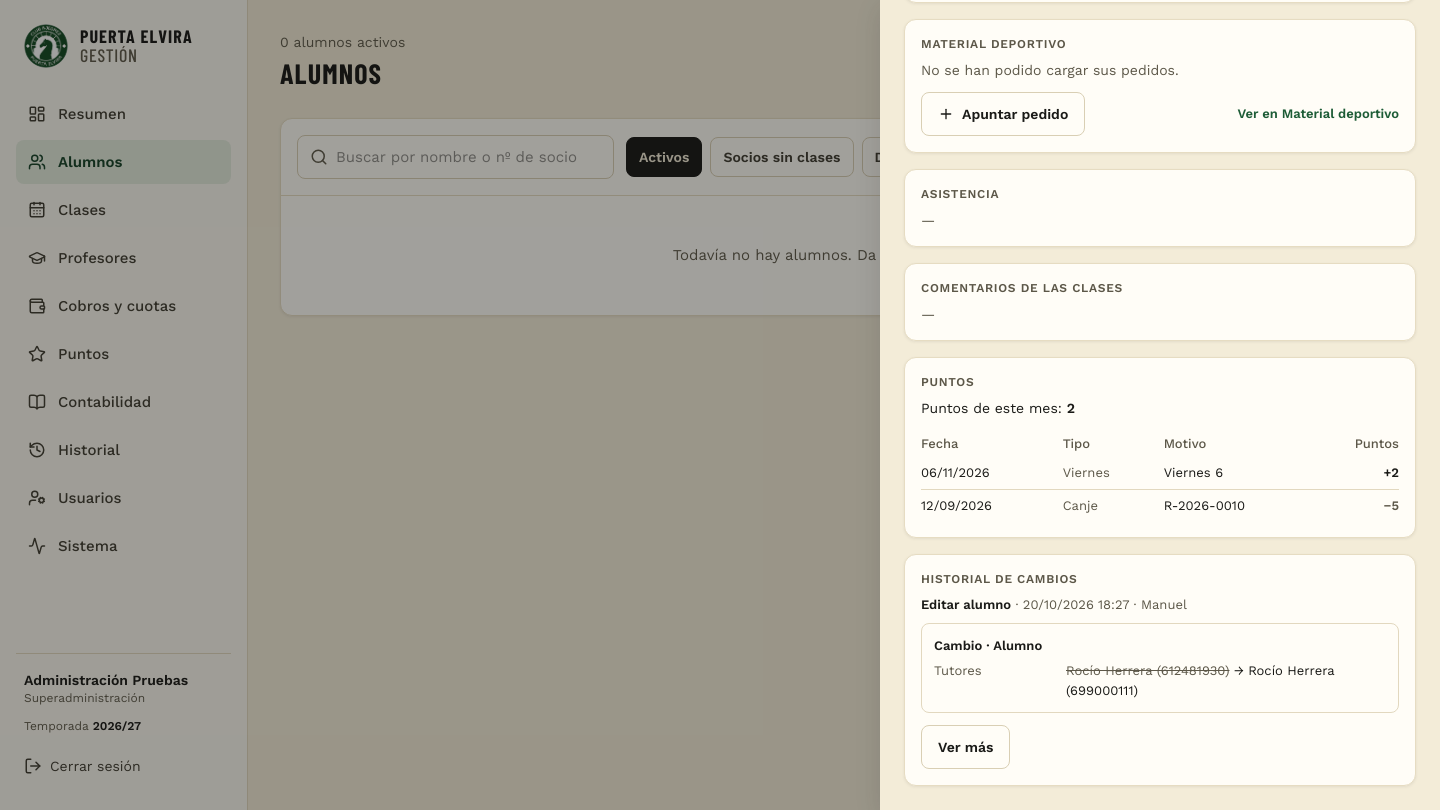
Ficha del alumno: historiales › shows the superadministration what changed in the student, loading older changes on demand
The image size is (1440, 810).
(page scrolled)
Expected: the list named "Historial de cambios" shows "Editar alumno", [921,597,1011,612]
Expected: the list named "Historial de cambios" shows "Manuel", [1141,597,1187,612]
Click the button "Ver más" at [966, 747], box [921,725,1010,769]
(page scrolled)
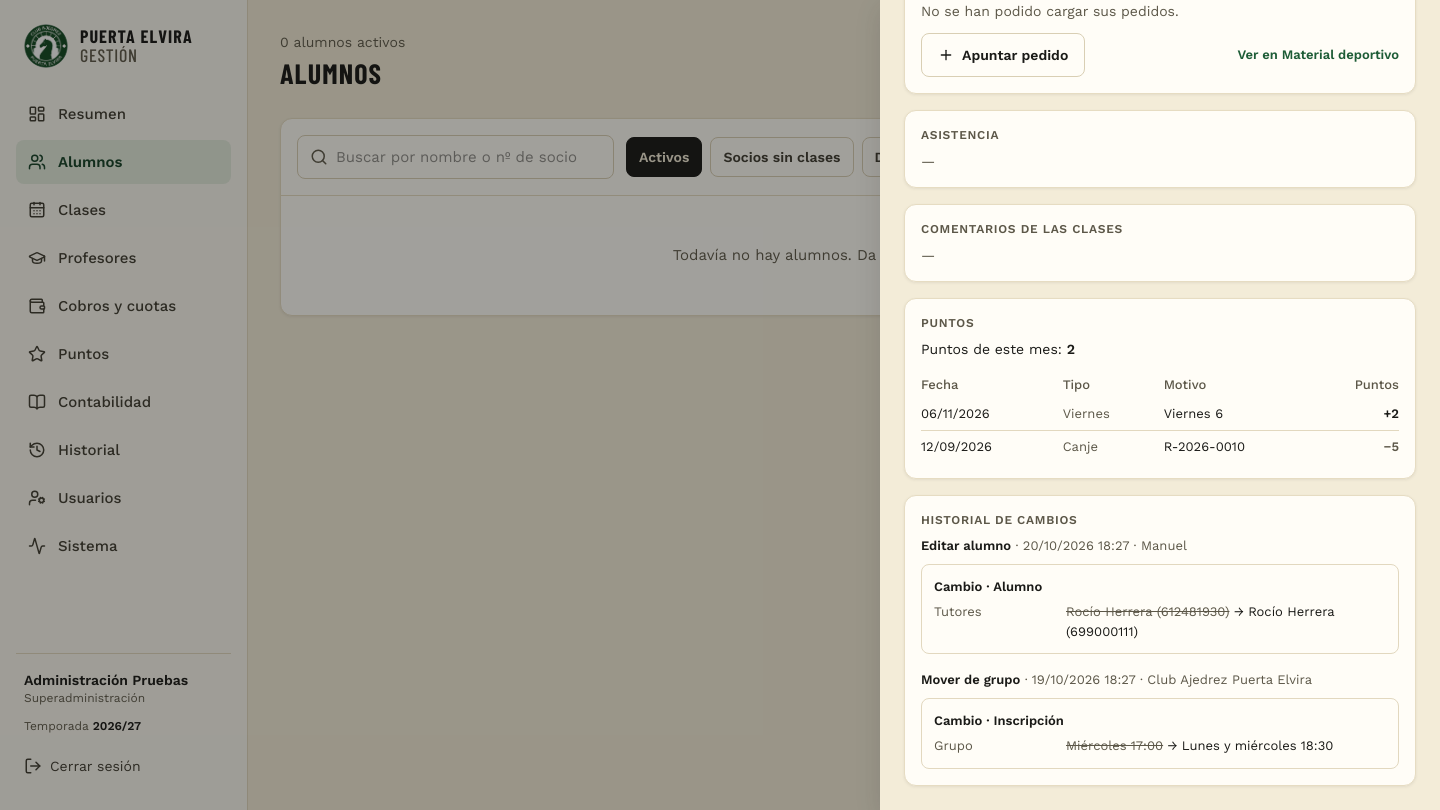
Expected: the text "Mover de grupo" is shown, [921,672,1020,687]
Expected: the list named "Historial de cambios" shows "Lunes y miércoles 18:30", [1182,738,1333,753]
Expected: the button "Ver más" is gone
